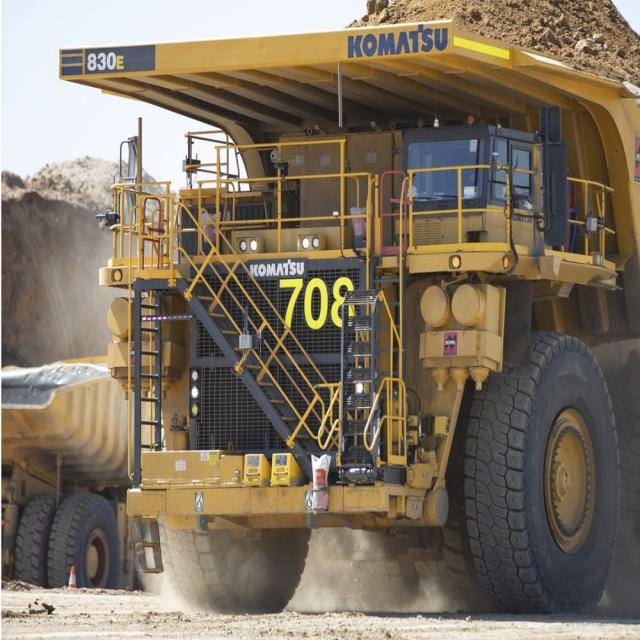dump_truck: (46, 8, 640, 623), (0, 333, 134, 585)
